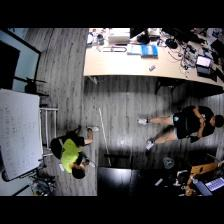normal: (137, 105, 224, 148), (55, 124, 100, 180)
